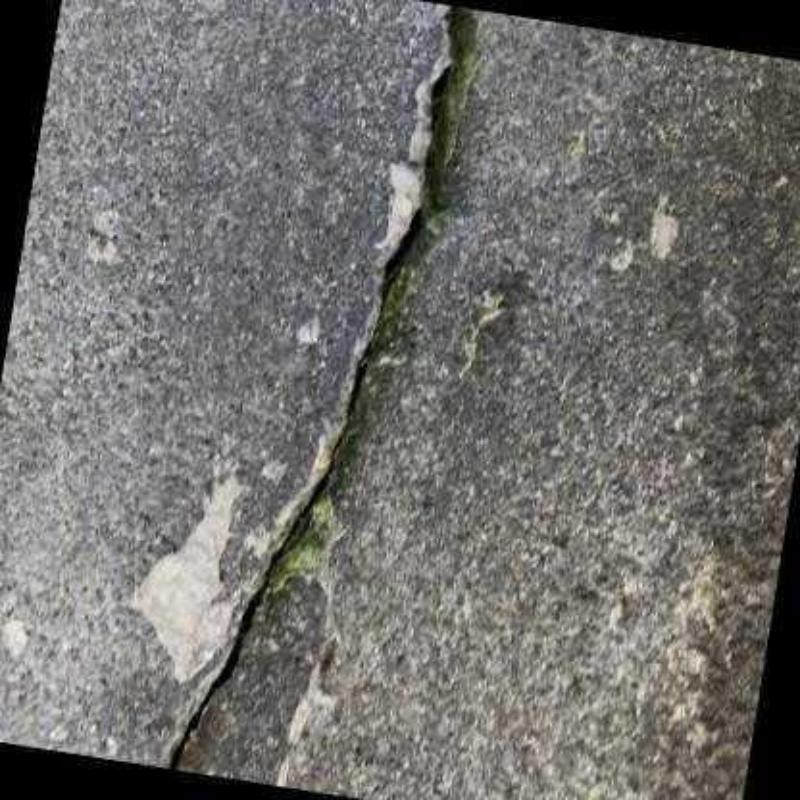pothole: (168, 5, 455, 771)
